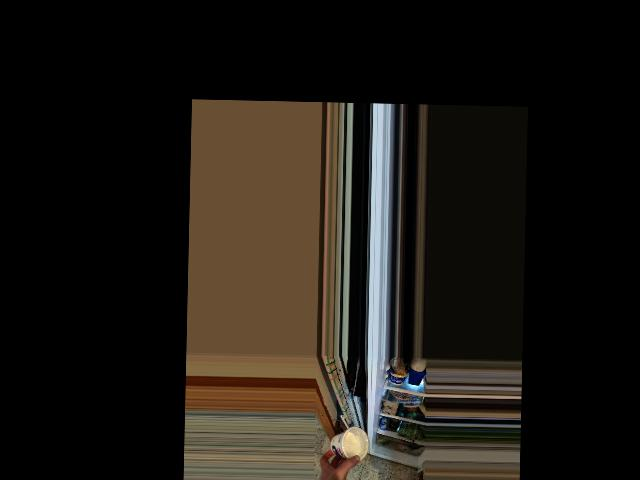cotage: (330, 426, 368, 461)
